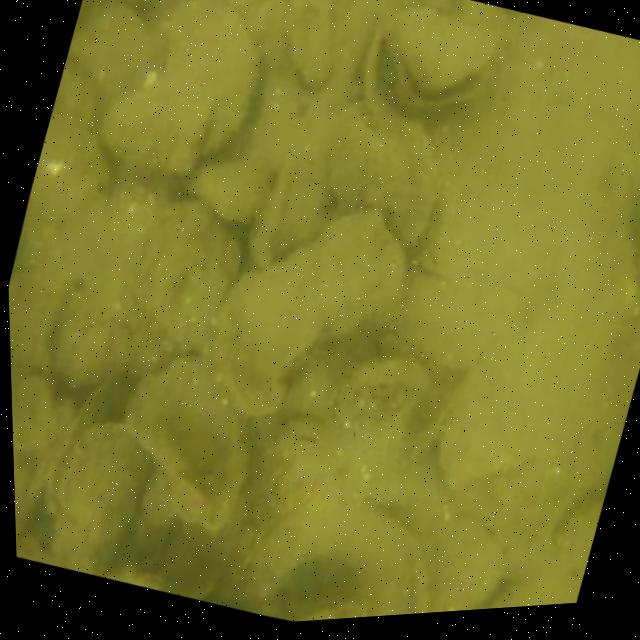Oyster-Closed: (191, 159, 264, 228), (58, 317, 130, 386)
Oyster-Indeterminate: (217, 206, 404, 397), (101, 0, 259, 167), (118, 355, 252, 536), (329, 101, 438, 245), (128, 202, 238, 344), (47, 420, 144, 576), (28, 113, 108, 218), (557, 497, 603, 582), (635, 211, 640, 278)
Oyster-Open: (373, 4, 501, 118)
